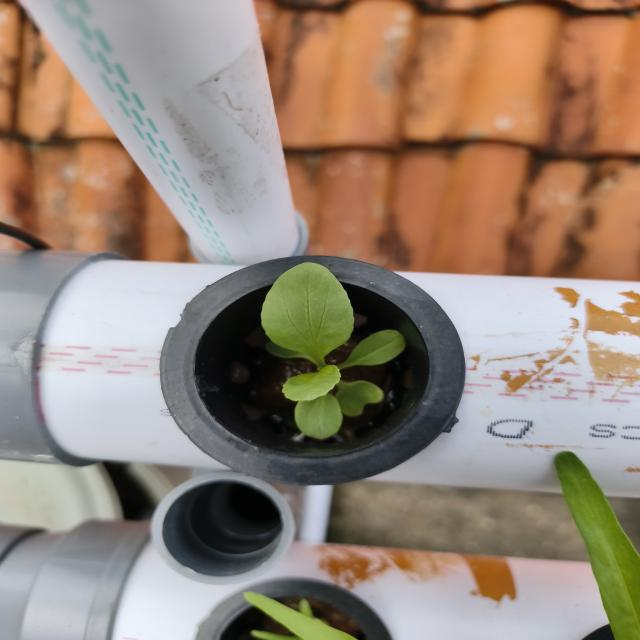daun-pakcoy: (261, 262, 354, 367), (338, 330, 405, 370), (295, 393, 342, 439), (283, 364, 340, 401), (335, 379, 384, 416), (266, 342, 308, 359)
